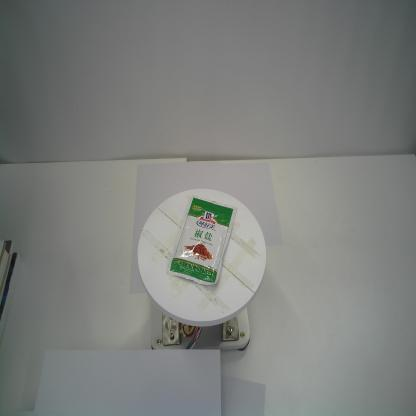Seasoner: (165, 193, 238, 287)
